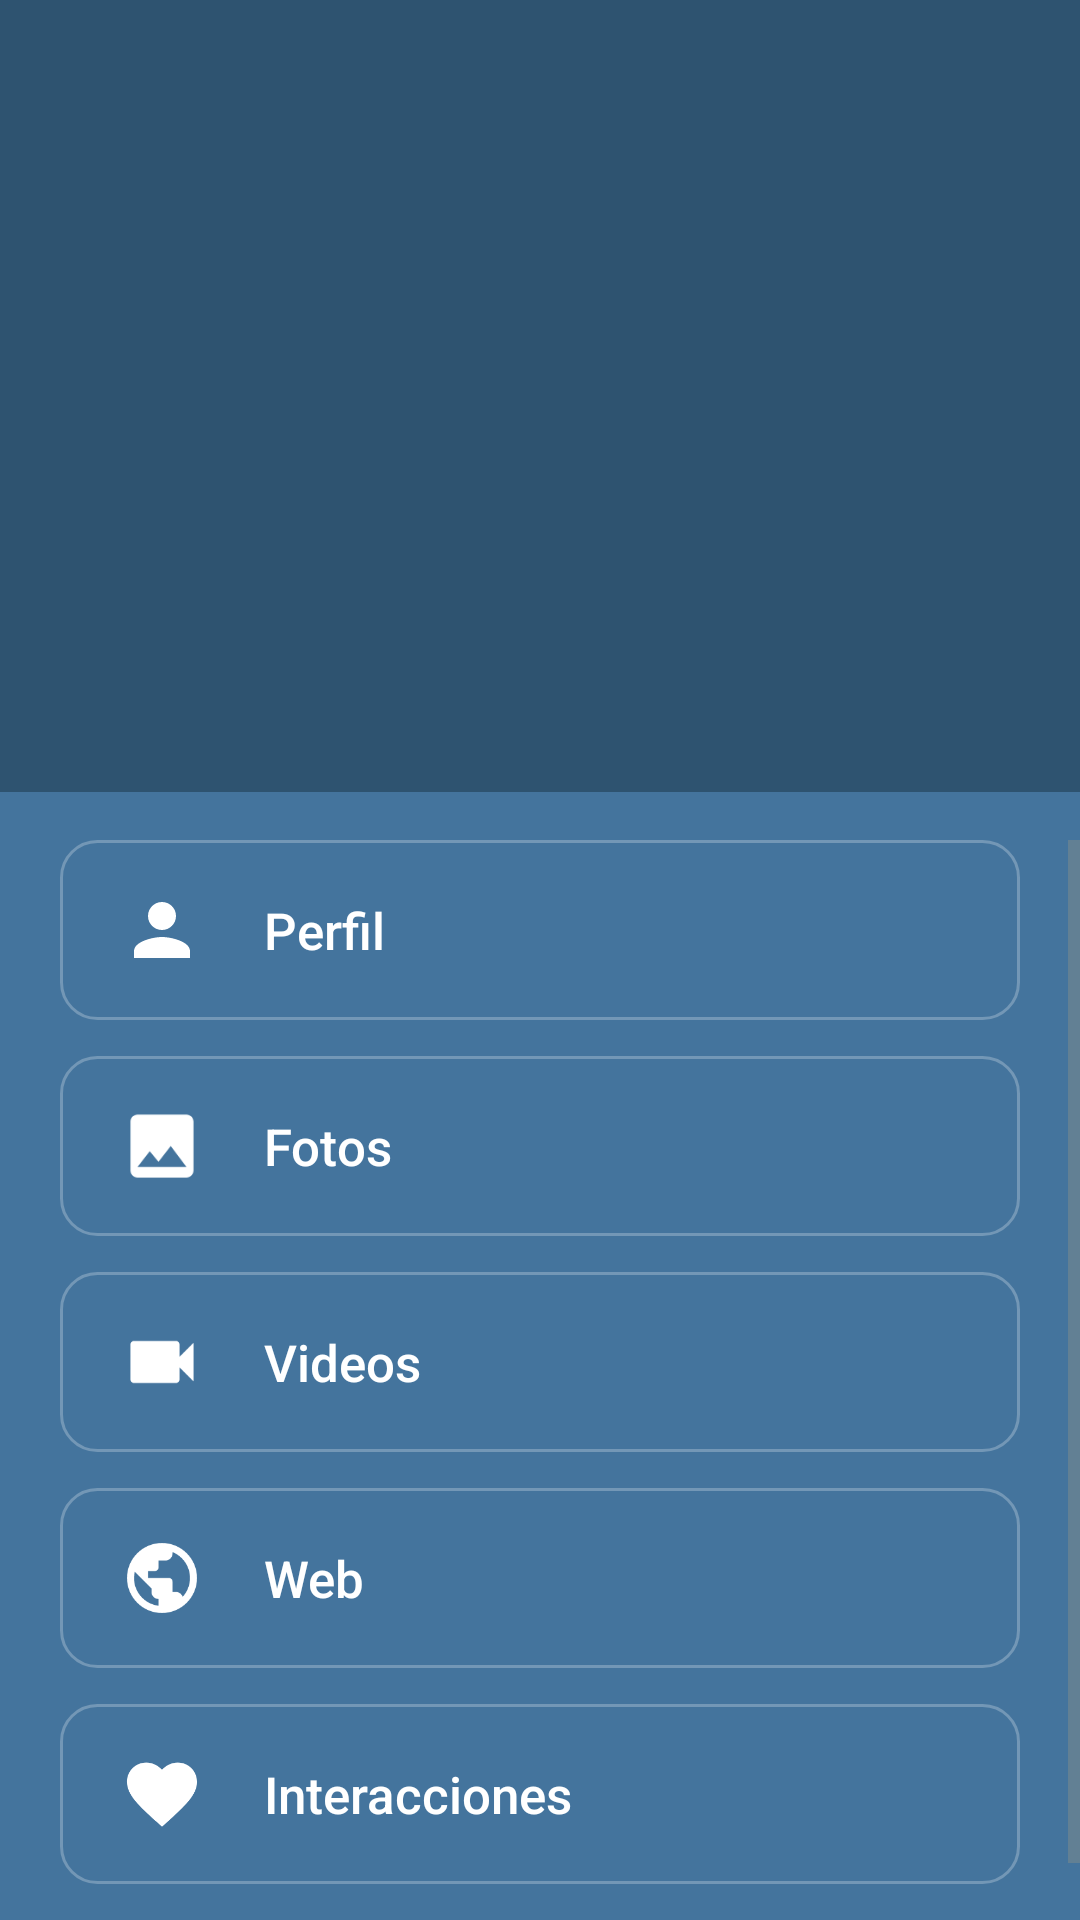

Icon click points for this 1080w x 1920h phone screenshot, format (x,y):
interactions: (162,1794)
photos: (162,1146)
profile: (162,930)
